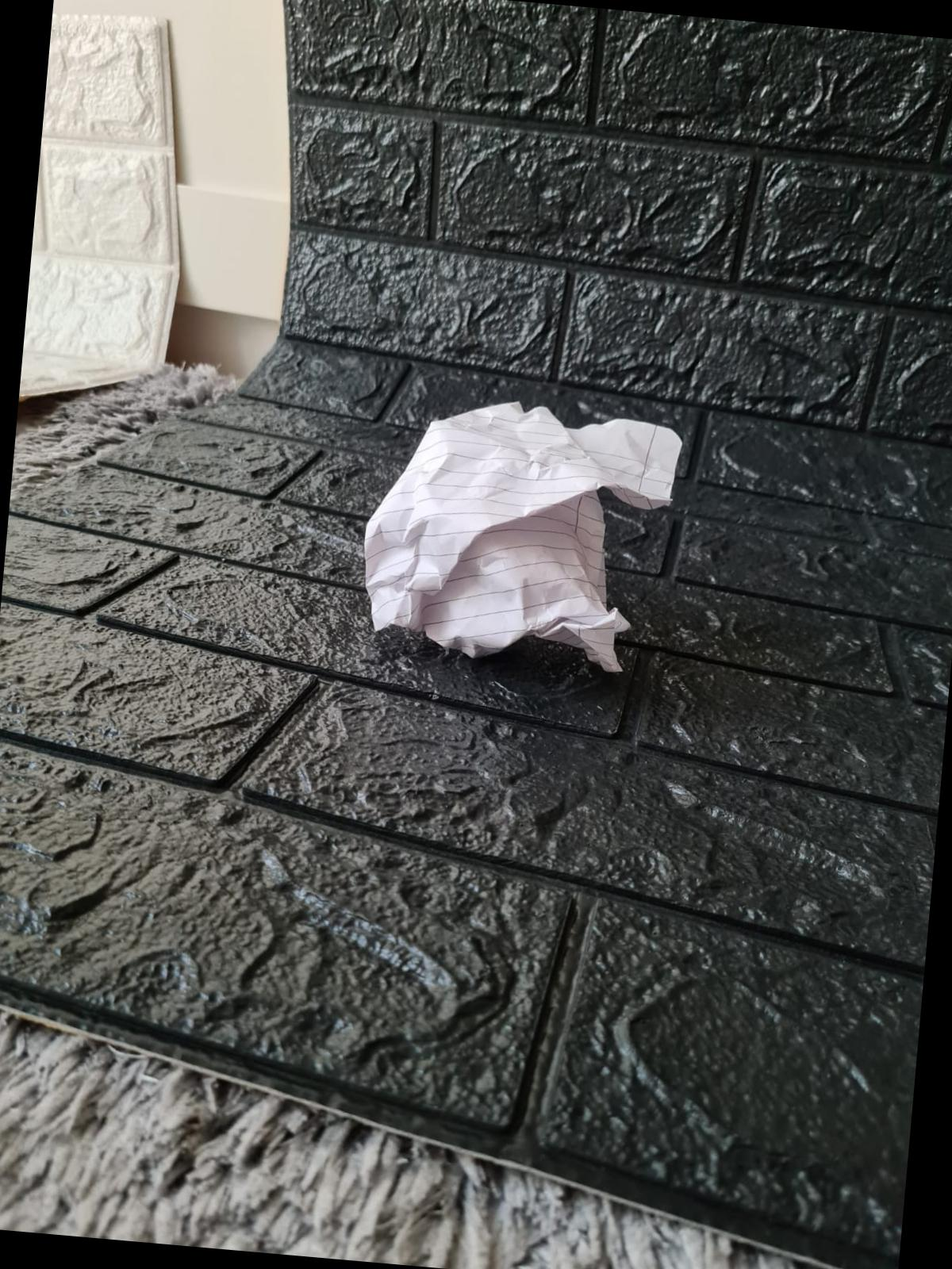Kertas: (357, 398, 696, 670)
